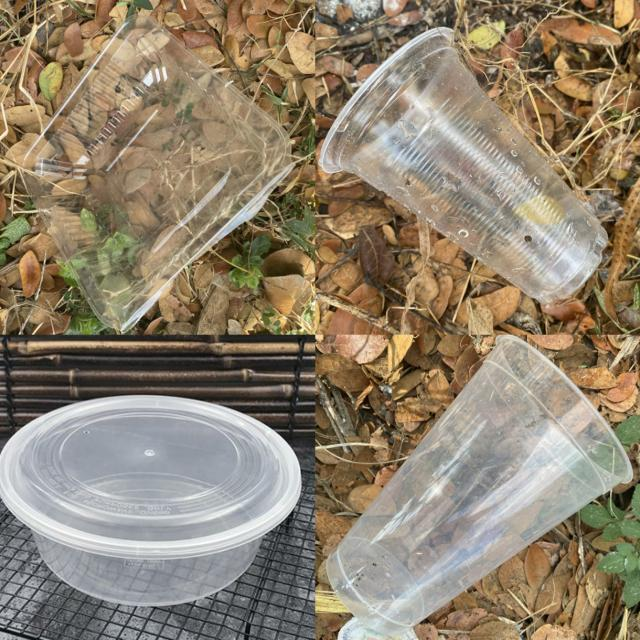plastik: (327, 335, 631, 635), (18, 15, 293, 331), (319, 28, 608, 303), (0, 395, 301, 606)
